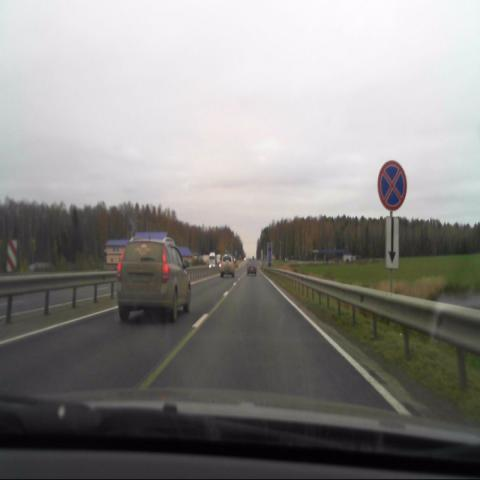8_2_3: (385, 217, 400, 269)
